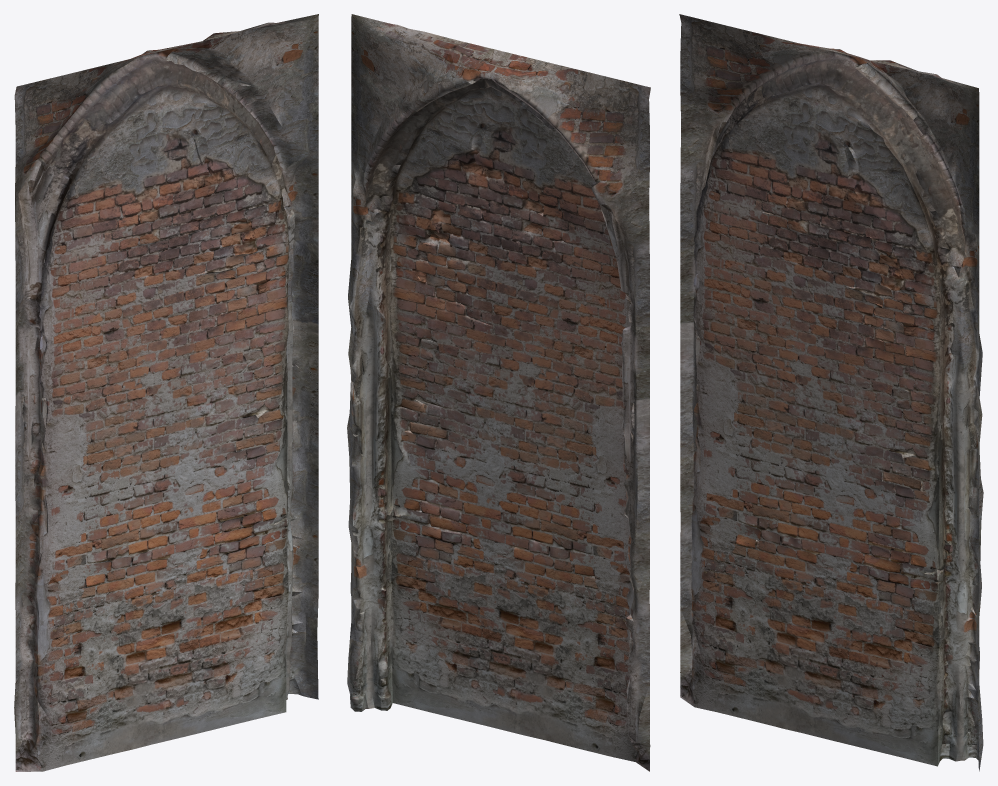
Rendered from SM_ChapelWall_01_12_OneSide.fbx.
3 views of the same model, side by side, from view 1: azimuth 30°, elevation 25°; view 2: azimuth 150°, elevation 25°; view 3: azimuth 330°, elevation 25° (orthographic).
Visible parts, largest first — view 1: sm_ChapelWall_01_12_OneSide_LOD0; view 2: sm_ChapelWall_01_12_OneSide_LOD0; view 3: sm_ChapelWall_01_12_OneSide_LOD0.
Part boxes in pixels (x1=…): sm_ChapelWall_01_12_OneSide_LOD0: x1=14, y1=14, x2=318, y2=771; sm_ChapelWall_01_12_OneSide_LOD0: x1=347, y1=14, x2=650, y2=771; sm_ChapelWall_01_12_OneSide_LOD0: x1=679, y1=14, x2=983, y2=771.
Bounding box in the file's own units: 42.36 × 250 × 545.
